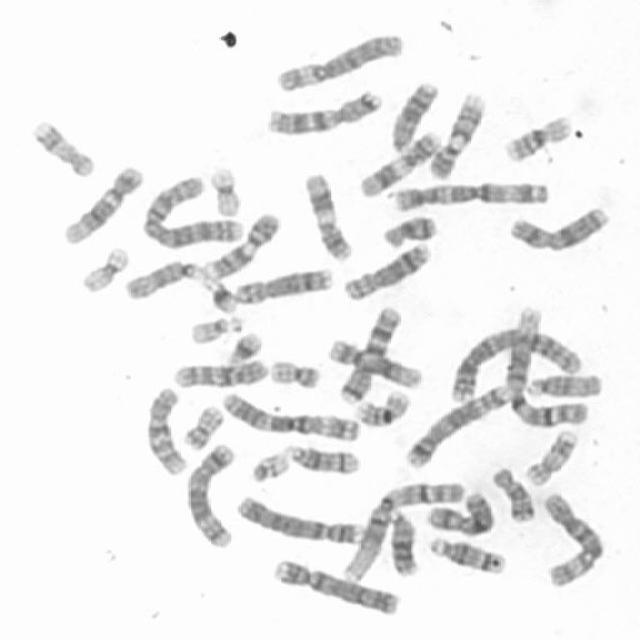A1: (340, 480, 466, 584), (502, 306, 589, 427)
A2: (448, 326, 586, 405), (143, 174, 245, 250)
A3: (221, 393, 360, 444), (390, 180, 550, 214)
B4: (272, 557, 401, 617), (236, 495, 366, 546)
B5: (404, 382, 512, 470), (186, 442, 236, 550)
C10: (146, 385, 188, 475), (172, 358, 271, 388)
C11: (358, 131, 442, 200), (302, 172, 352, 261)
C12: (61, 163, 145, 244), (326, 338, 424, 388)
C6: (273, 32, 410, 94), (539, 492, 607, 588)
C7: (338, 305, 400, 407), (267, 86, 382, 134)
C8: (342, 242, 432, 302), (234, 266, 334, 304)
C9: (426, 91, 490, 181), (201, 212, 282, 282)
D13: (388, 80, 441, 154), (385, 508, 419, 578)
D14: (428, 536, 508, 578), (282, 443, 361, 474)
D15: (123, 258, 197, 300), (524, 372, 606, 401)
E16: (504, 114, 572, 163), (353, 387, 410, 427)
E17: (30, 118, 94, 179), (524, 427, 580, 486)
E18: (491, 464, 537, 525), (381, 215, 438, 251)
F19: (78, 246, 130, 294), (206, 164, 243, 218)
F20: (182, 403, 226, 450), (269, 356, 320, 390)
G21: (205, 278, 241, 316), (227, 330, 264, 365)
G22: (189, 314, 244, 347), (248, 449, 288, 486)
X: (503, 206, 611, 254), (426, 491, 496, 537)
